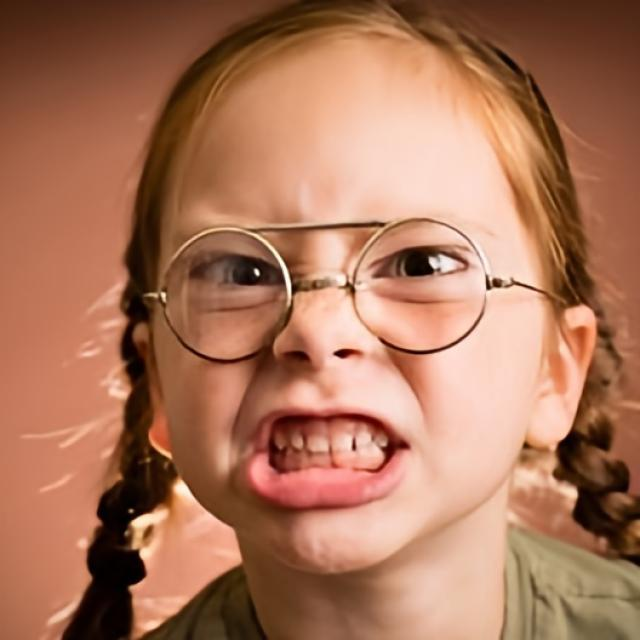anger: (155, 55, 544, 572)
